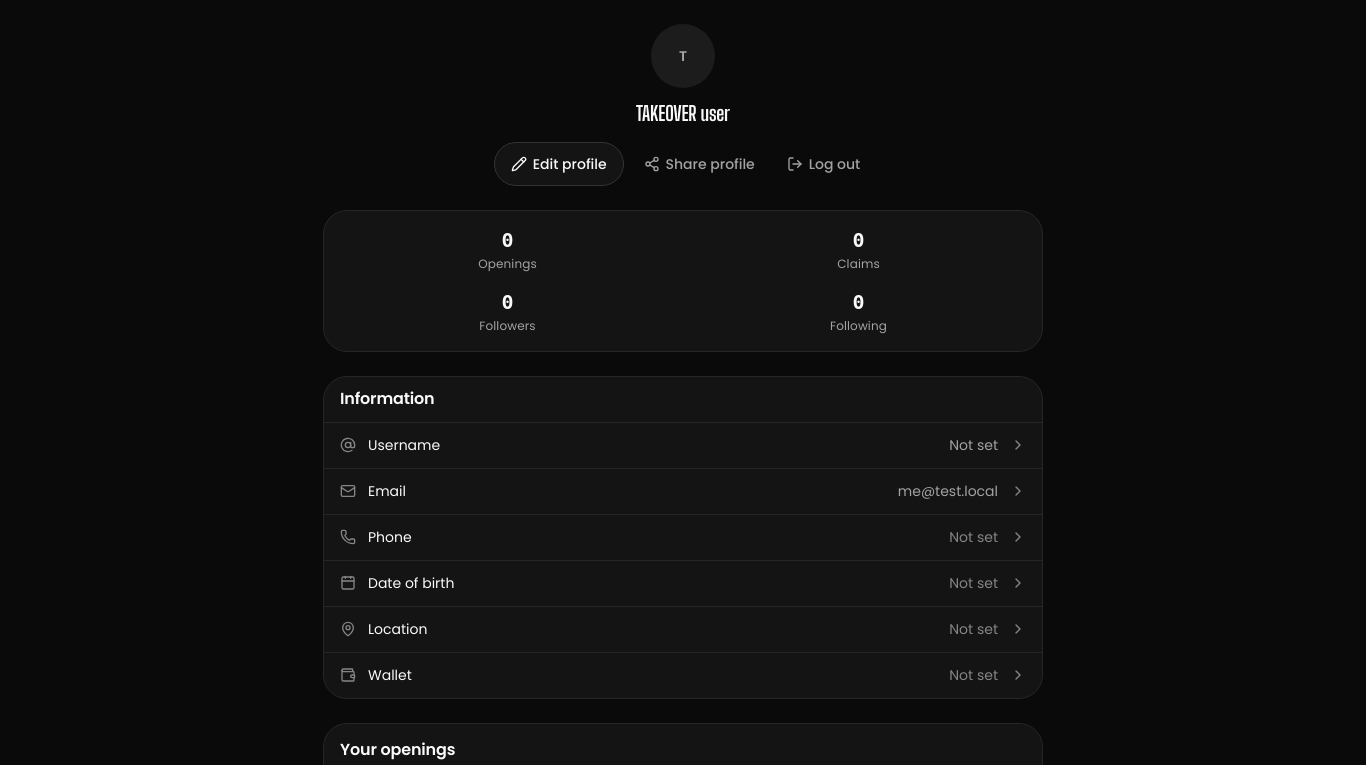
Test: Profile — one-time username set (Phase 5o-A) › an empty handle is refused — a handle can be set, never cleared
Expected: the heading "Information" is shown, [324,377,1042,423]
Step 1. Click the button "Username Not set" → (404, 445), box [324,423,1042,468]
(page scrolled)
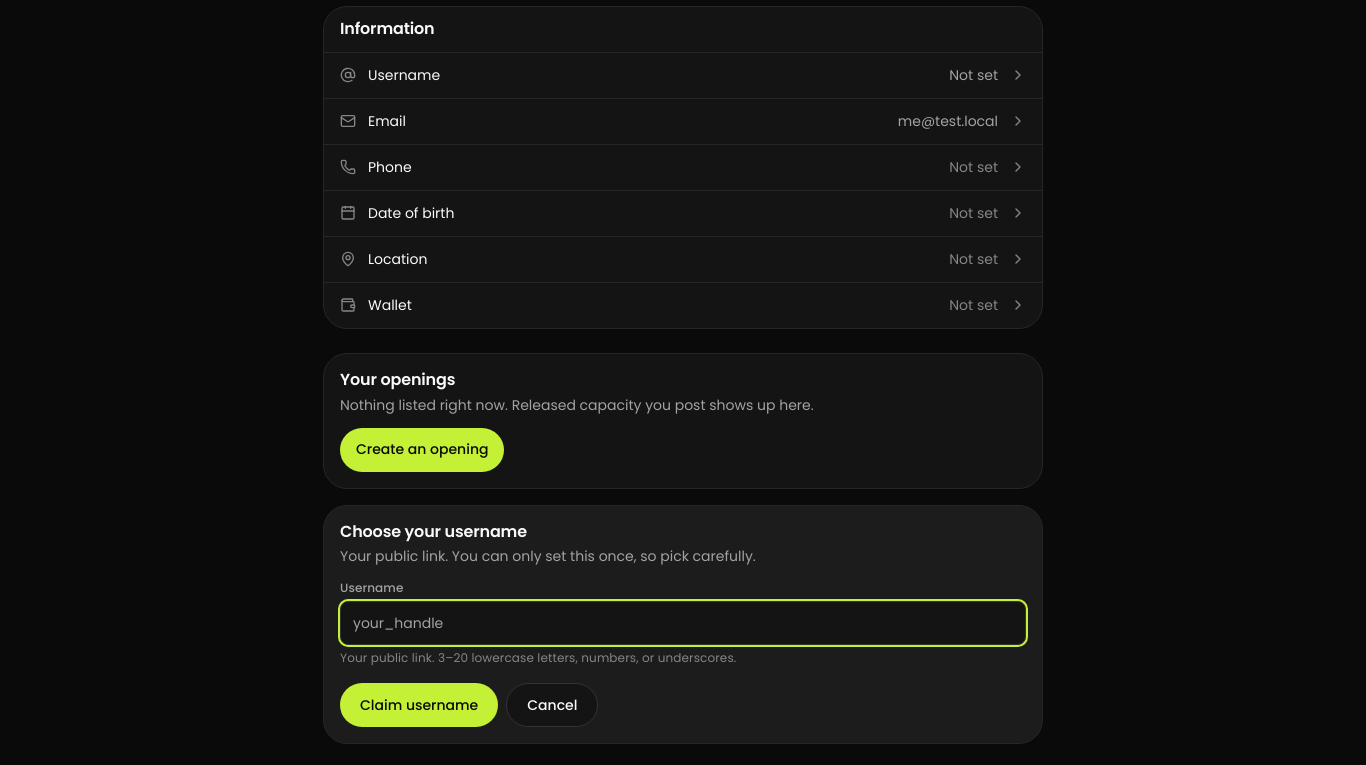
Step 2. Click the button "Claim username" → (419, 705), box [340,683,498,727]
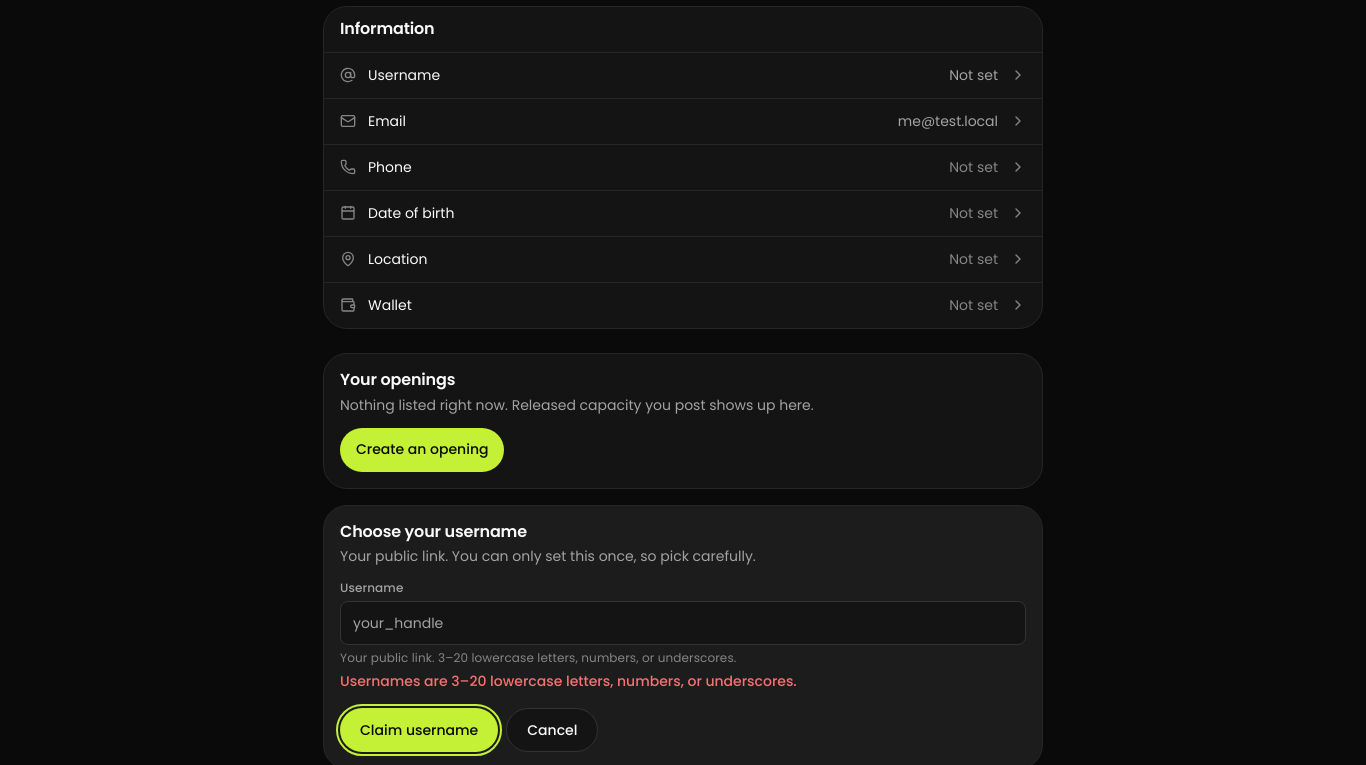
Expected: the text "Usernames are 3–20 lowercase letters, numbers, or underscores." is shown, [340,671,797,691]
